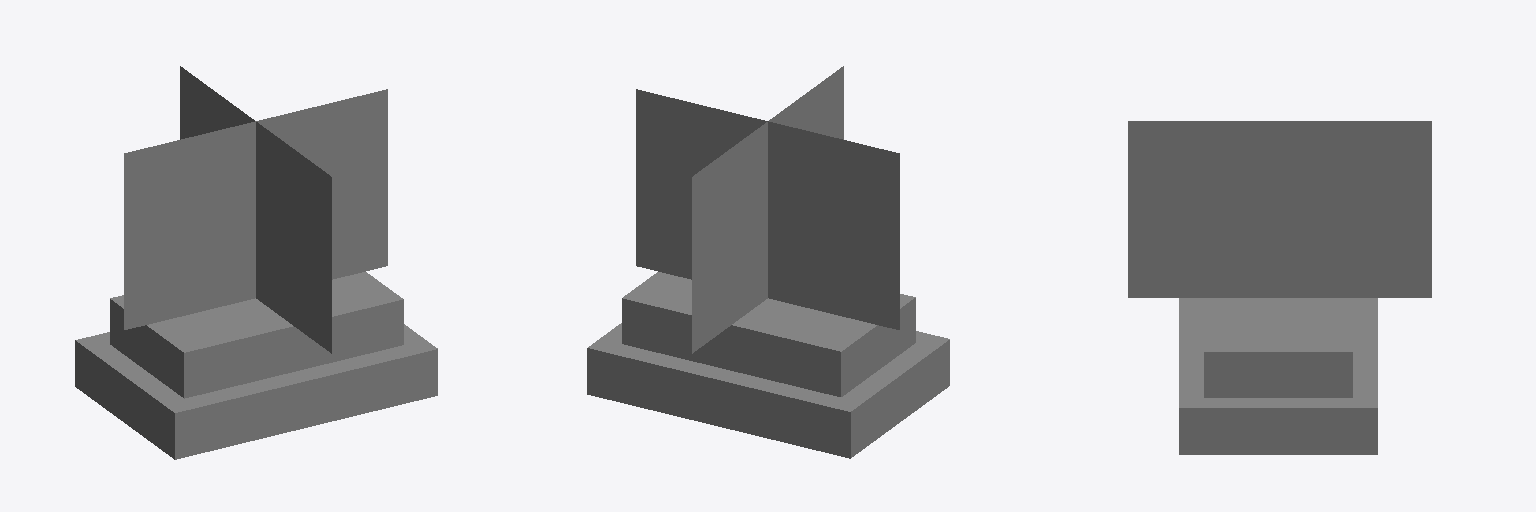
Rendered from tree.obj.
The picture shows the model from 3 angles: view 1: azimuth 30°, elevation 25°; view 2: azimuth 150°, elevation 25°; view 3: azimuth 270°, elevation 25°; orthographic projection.
Parts seen in each view (by area): view 1: _________________03; view 2: _________________03; view 3: _________________03.
Part boxes in pixels (x1,y1,x2,y2): _________________03: (75, 66, 437, 459); _________________03: (587, 66, 949, 458); _________________03: (1128, 121, 1431, 454).
Size of the model in its own units: 2.41 by 2.36 by 2.41.